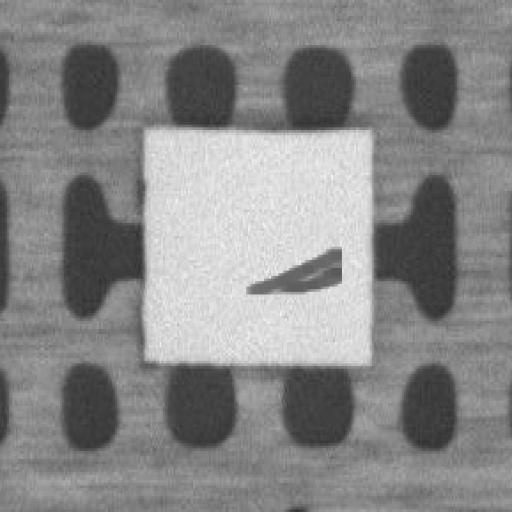DIE_INK: (241, 239, 338, 289)
